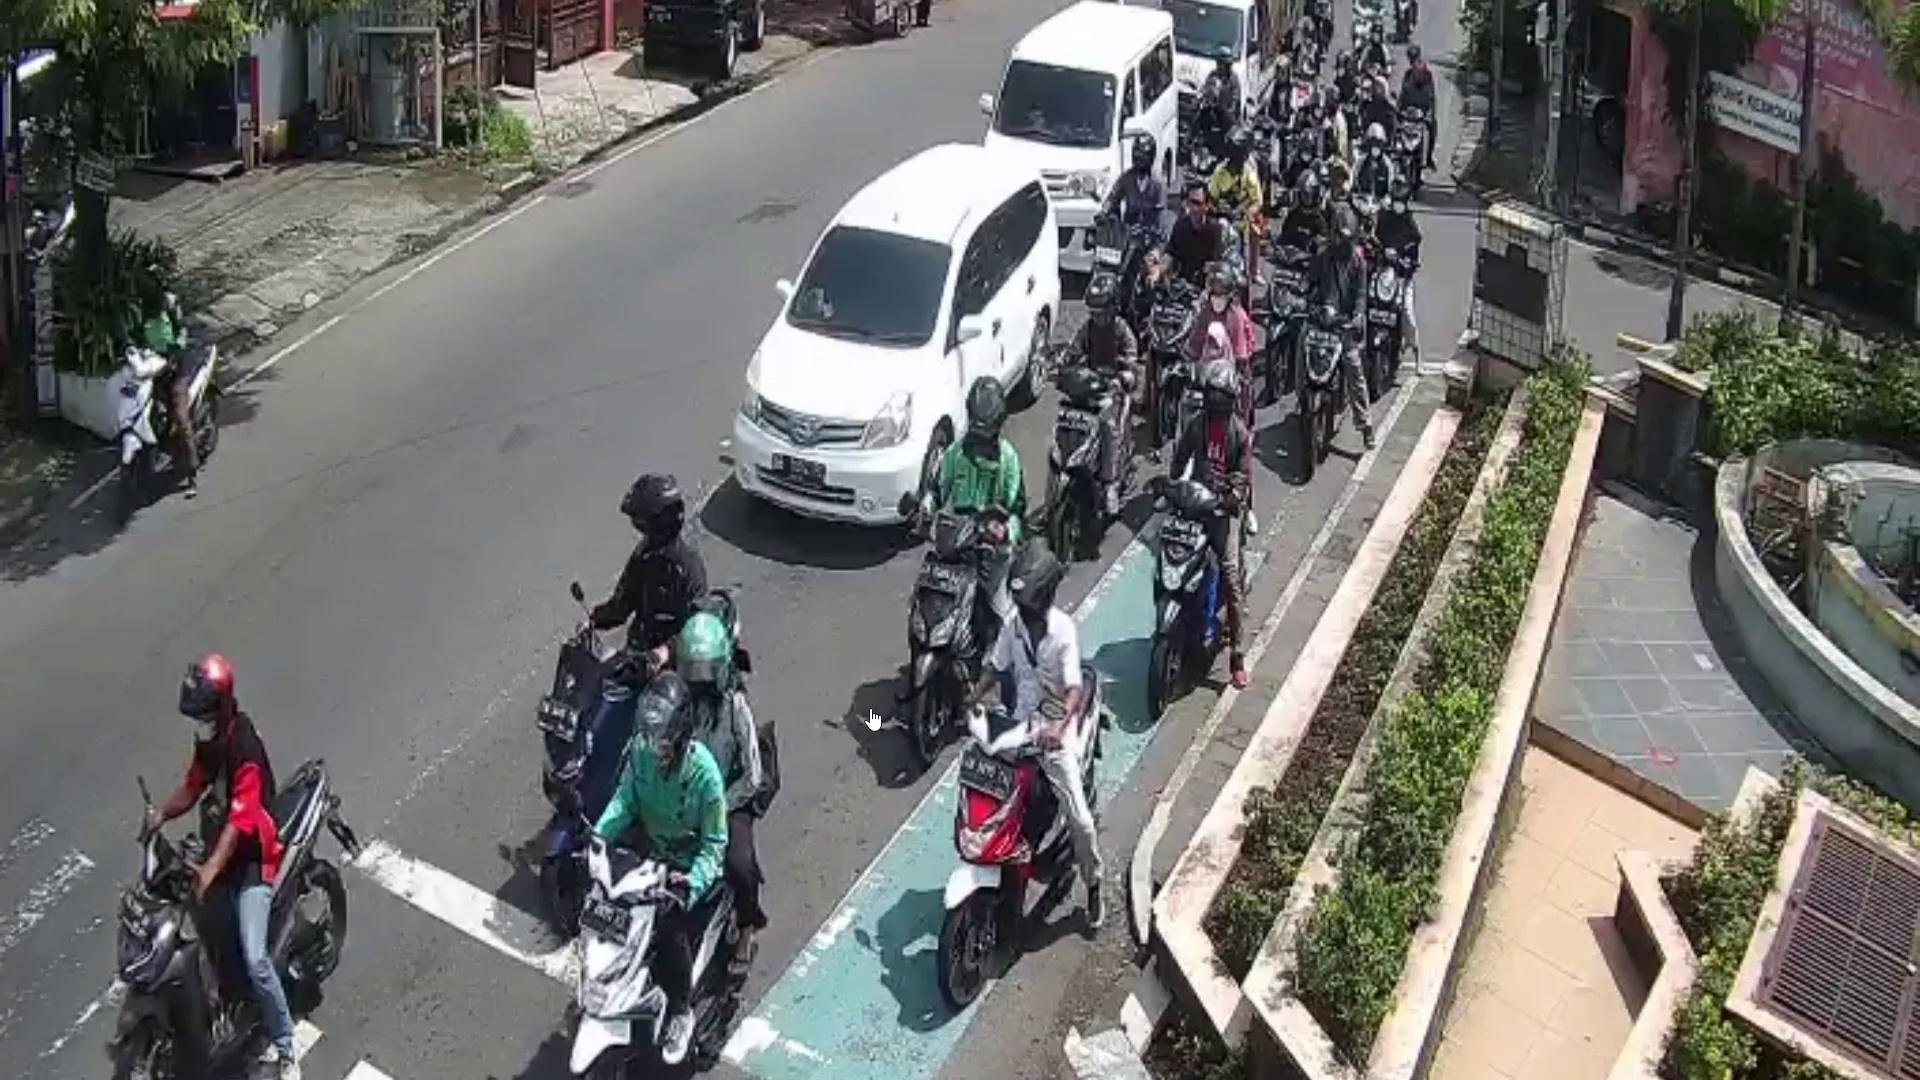car: (733, 141, 1058, 530), (989, 0, 1180, 273), (1163, 0, 1280, 119)
motorbike: (116, 757, 352, 1080), (940, 662, 1105, 1017), (578, 851, 737, 1080), (914, 501, 998, 753), (1149, 491, 1236, 724), (115, 343, 224, 513), (1044, 364, 1121, 517), (1303, 310, 1358, 465), (1364, 248, 1415, 400)
